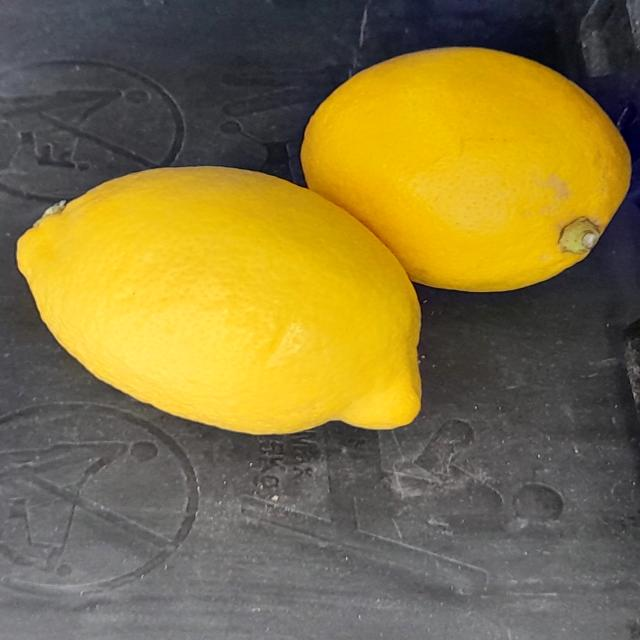lemon: (6, 158, 452, 447), (300, 29, 640, 308)
